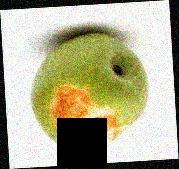rotten apple: (28, 32, 156, 150)
